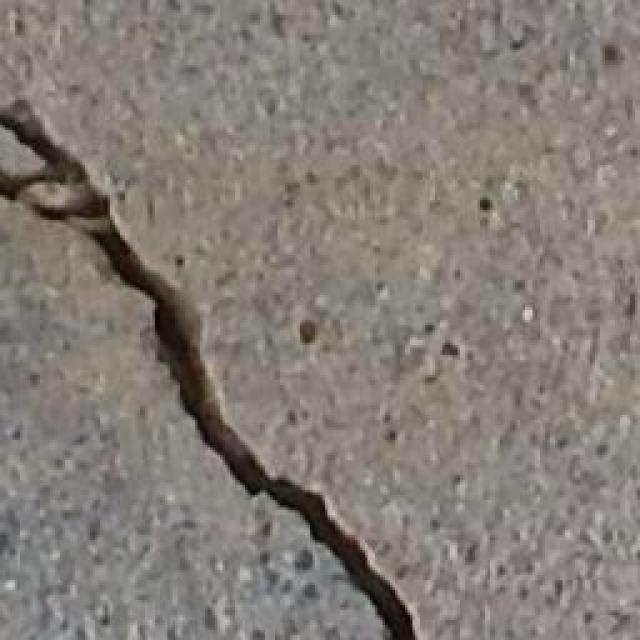concrete-crack: (0, 99, 425, 640)
